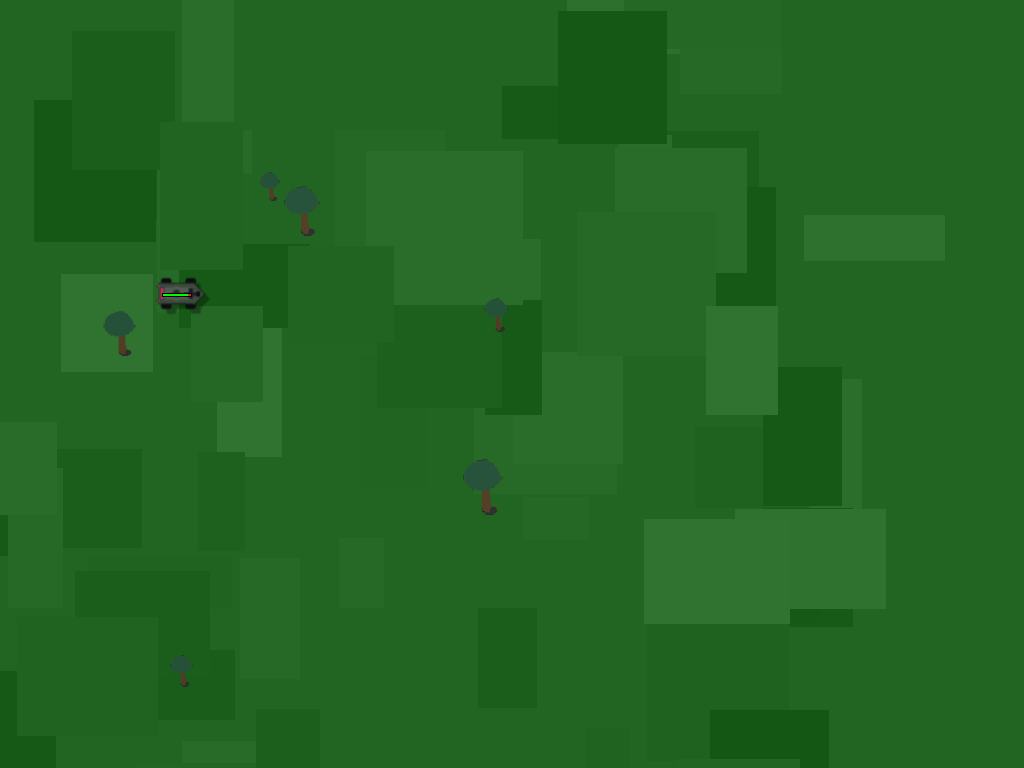ArmoredCar: (156, 271, 198, 313)
